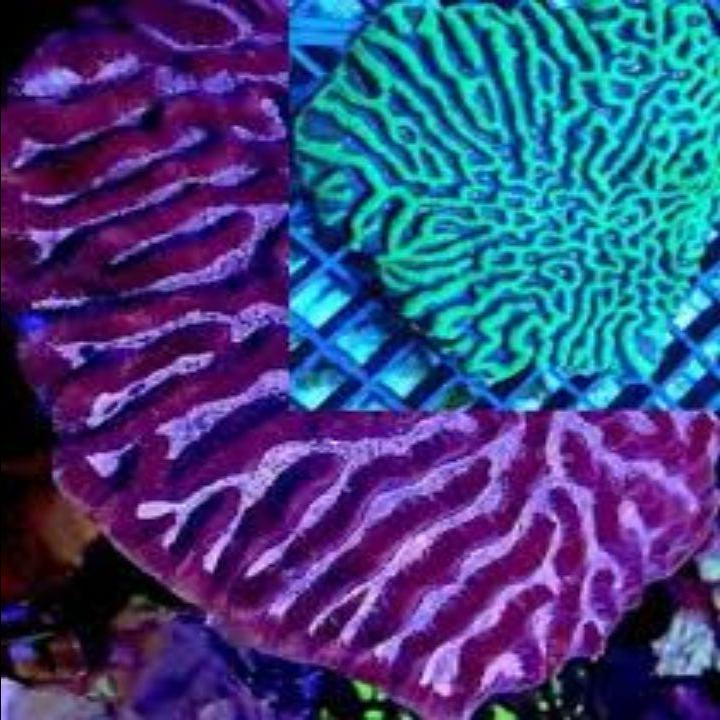Healthy Coral: (68, 3, 704, 688)
